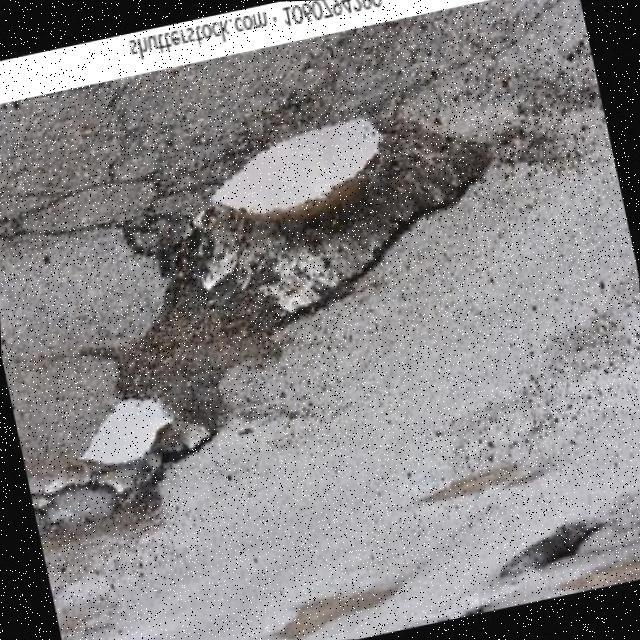Pothole: (155, 116, 490, 329), (31, 397, 216, 530), (499, 521, 599, 577)
